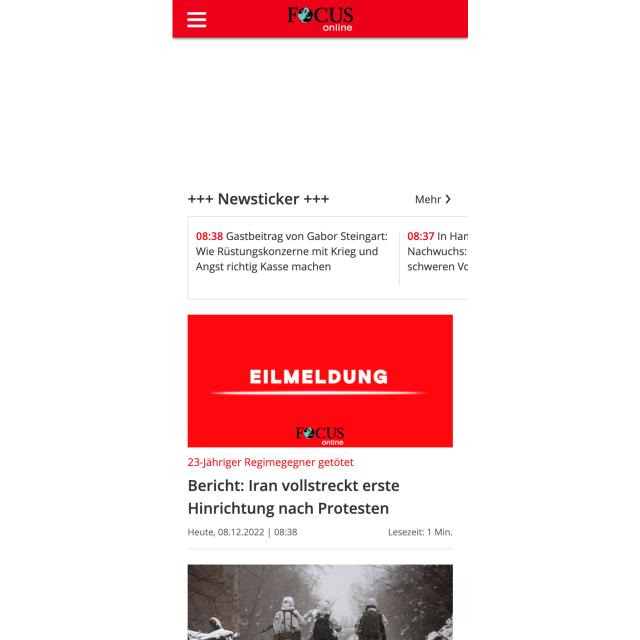logo: (284, 4, 361, 34)
navigation: (184, 10, 210, 30)
